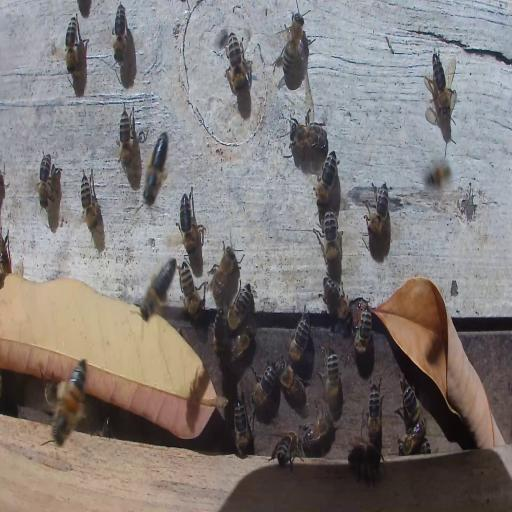bee: (52, 352, 88, 448), (136, 252, 177, 324), (423, 50, 458, 121), (142, 129, 169, 206), (281, 11, 306, 81), (212, 237, 241, 294), (348, 440, 384, 484), (178, 188, 201, 256), (314, 148, 340, 208), (289, 113, 327, 154), (365, 181, 390, 240), (322, 342, 345, 406), (226, 33, 249, 97), (318, 208, 342, 268), (79, 168, 100, 234), (36, 149, 57, 212), (300, 404, 331, 446), (278, 362, 306, 408), (181, 257, 201, 320), (226, 282, 252, 330), (288, 307, 310, 362), (275, 431, 304, 469), (324, 279, 350, 321), (234, 398, 252, 458), (252, 367, 278, 406), (367, 382, 382, 448), (399, 421, 427, 455), (118, 107, 133, 170), (400, 379, 420, 426), (424, 157, 453, 189), (112, 2, 127, 62), (64, 14, 78, 75), (356, 301, 372, 353), (230, 327, 254, 360), (0, 230, 10, 278), (44, 379, 56, 406)
